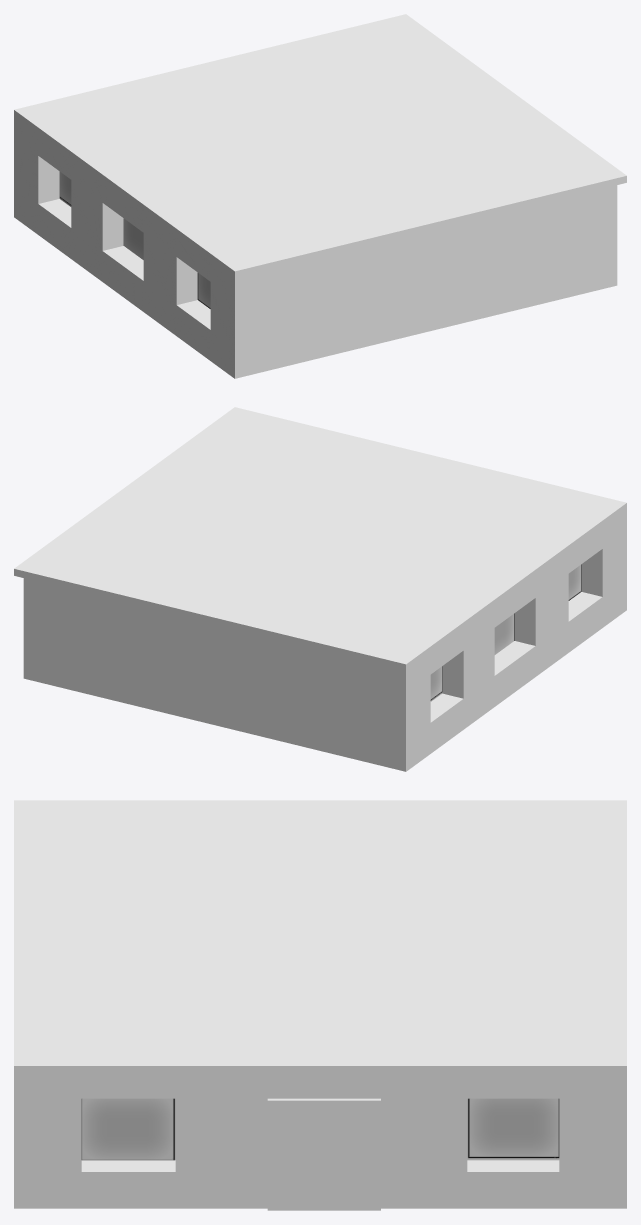
The model's file is building middle.fbx.
3 renders of one model, top to bottom at view 1: azimuth 30°, elevation 25°; view 2: azimuth 150°, elevation 25°; view 3: azimuth 270°, elevation 25°, orthographic. The views are drawn at different scales.
Visible parts, largest first — view 1: Cube; view 2: Cube; view 3: Cube.
Boxes of the visible parts, left/top/right/bottom form: Cube: left=14, top=14, right=626, bottom=378; Cube: left=14, top=407, right=626, bottom=771; Cube: left=14, top=800, right=626, bottom=1210.
Size of the model in its own units: 2.05 by 0.537 by 2.
